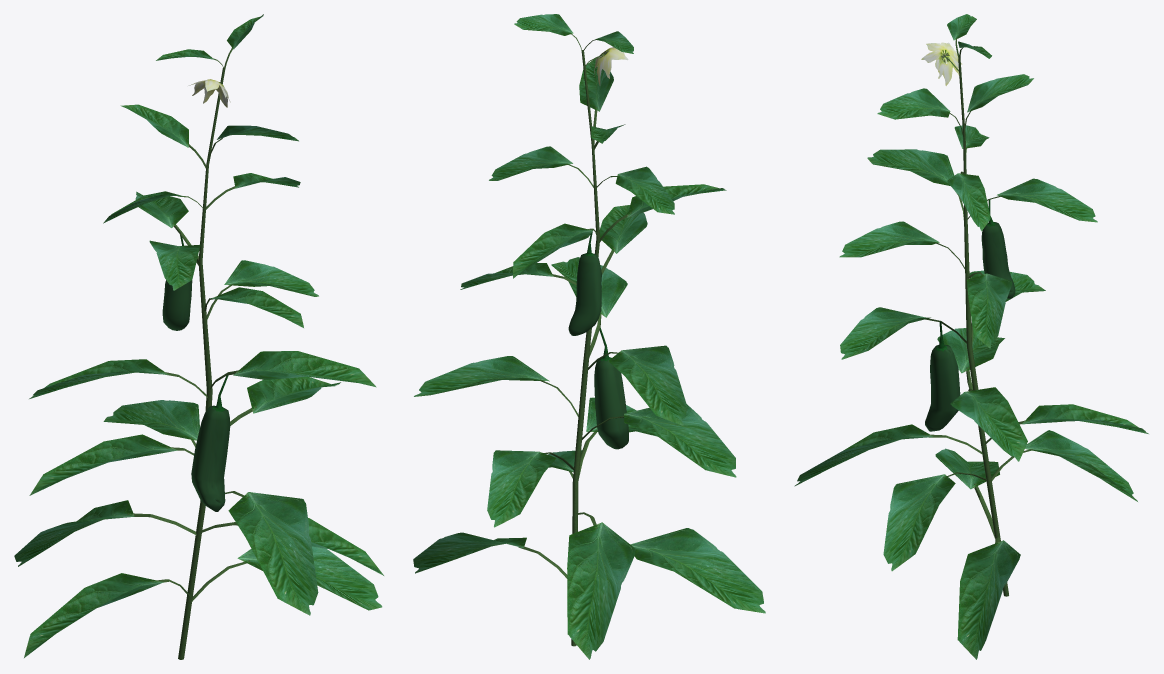
File: PLANT.fbx
The picture shows the model from 3 angles, left to right: view 1: azimuth 30°, elevation 25°; view 2: azimuth 150°, elevation 25°; view 3: azimuth 270°, elevation 25°; orthographic projection. The views are drawn at different scales.
Parts seen in each view (by area): view 1: jalapeno_plant:LOD0LOD_0polySurface35, jalapeno_plant:LOD0LOD_0polySurface9, jalapeno_plant:LOD0LOD_0polySurface6, jalapeno_plant:LOD0LOD_0polySurface29, jalapeno_plant:LOD0LOD_0polySurface15, jalapeno_plant:LOD0LOD_0polySurface5, jalapeno_plant:LOD0LOD_0polySurface31, jalapeno_plant:LOD0LOD_0polySurface8, jalapeno_plant:LOD0LOD_0polySurface11, jalapeno_plant:LOD0LOD_0polySurface3, jalapeno_plant:LOD0LOD_0polySurface47, jalapeno_plant:LOD0LOD_0polySurface27 (+9 smaller); view 2: jalapeno_plant:LOD0LOD_0polySurface3, jalapeno_plant:LOD0LOD_0polySurface6, jalapeno_plant:LOD0LOD_0polySurface27, jalapeno_plant:LOD0LOD_0polySurface15, jalapeno_plant:LOD0LOD_0polySurface31, jalapeno_plant:LOD0LOD_0polySurface11, jalapeno_plant:LOD0LOD_0polySurface9, jalapeno_plant:LOD0LOD_0polySurface5, jalapeno_plant:LOD0LOD_0polySurface50, jalapeno_plant:LOD0LOD_0polySurface8, jalapeno_plant:LOD0LOD_0polySurface25, jalapeno_plant:LOD0LOD_0polySurface41 (+8 smaller); view 3: jalapeno_plant:LOD0LOD_0polySurface8, jalapeno_plant:LOD0LOD_0polySurface45, jalapeno_plant:LOD0LOD_0polySurface11, jalapeno_plant:LOD0LOD_0polySurface47, jalapeno_plant:LOD0LOD_0polySurface9, jalapeno_plant:LOD0LOD_0polySurface3, jalapeno_plant:LOD0LOD_0polySurface5, jalapeno_plant:LOD0LOD_0polySurface29, jalapeno_plant:LOD0LOD_0polySurface33, jalapeno_plant:LOD0LOD_0polySurface25, jalapeno_plant:LOD0LOD_0polySurface37, jalapeno_plant:LOD0LOD_0polySurface35 (+9 smaller).
Boxes of the visible parts, x1,y1,x2,y2 form: jalapeno_plant:LOD0LOD_0polySurface35: [228, 492, 318, 615]; jalapeno_plant:LOD0LOD_0polySurface9: [191, 405, 230, 511]; jalapeno_plant:LOD0LOD_0polySurface6: [24, 573, 163, 657]; jalapeno_plant:LOD0LOD_0polySurface29: [233, 351, 376, 387]; jalapeno_plant:LOD0LOD_0polySurface15: [29, 434, 177, 495]; jalapeno_plant:LOD0LOD_0polySurface5: [178, 67, 225, 659]; jalapeno_plant:LOD0LOD_0polySurface31: [103, 400, 199, 440]; jalapeno_plant:LOD0LOD_0polySurface8: [237, 546, 382, 610]; jalapeno_plant:LOD0LOD_0polySurface11: [247, 376, 340, 413]; jalapeno_plant:LOD0LOD_0polySurface3: [14, 500, 134, 566]; jalapeno_plant:LOD0LOD_0polySurface47: [224, 260, 318, 296]; jalapeno_plant:LOD0LOD_0polySurface27: [29, 359, 168, 398]; jalapeno_plant:LOD0LOD_0polySurface3: [567, 522, 635, 659]; jalapeno_plant:LOD0LOD_0polySurface6: [630, 528, 765, 613]; jalapeno_plant:LOD0LOD_0polySurface27: [608, 345, 687, 425]; jalapeno_plant:LOD0LOD_0polySurface15: [624, 404, 736, 477]; jalapeno_plant:LOD0LOD_0polySurface31: [487, 450, 556, 527]; jalapeno_plant:LOD0LOD_0polySurface11: [414, 356, 549, 396]; jalapeno_plant:LOD0LOD_0polySurface9: [594, 359, 628, 449]; jalapeno_plant:LOD0LOD_0polySurface5: [571, 50, 600, 646]; jalapeno_plant:LOD0LOD_0polySurface50: [568, 253, 601, 335]; jalapeno_plant:LOD0LOD_0polySurface8: [413, 532, 526, 573]; jalapeno_plant:LOD0LOD_0polySurface25: [513, 223, 592, 278]; jalapeno_plant:LOD0LOD_0polySurface41: [615, 166, 674, 214]; jalapeno_plant:LOD0LOD_0polySurface8: [957, 540, 1020, 659]; jalapeno_plant:LOD0LOD_0polySurface45: [883, 474, 955, 571]; jalapeno_plant:LOD0LOD_0polySurface11: [950, 387, 1027, 461]; jalapeno_plant:LOD0LOD_0polySurface47: [966, 273, 1012, 348]; jalapeno_plant:LOD0LOD_0polySurface9: [925, 344, 960, 431]; jalapeno_plant:LOD0LOD_0polySurface3: [1025, 430, 1137, 501]; jalapeno_plant:LOD0LOD_0polySurface5: [958, 58, 1008, 596]; jalapeno_plant:LOD0LOD_0polySurface29: [840, 307, 930, 359]; jalapeno_plant:LOD0LOD_0polySurface33: [867, 149, 954, 185]; jalapeno_plant:LOD0LOD_0polySurface25: [997, 178, 1097, 222]; jalapeno_plant:LOD0LOD_0polySurface37: [839, 221, 939, 257]; jalapeno_plant:LOD0LOD_0polySurface35: [794, 424, 933, 486].
Bounding box in the file's own units: 255 × 427 × 239.
Materials: 1 (1 with a texture image).
